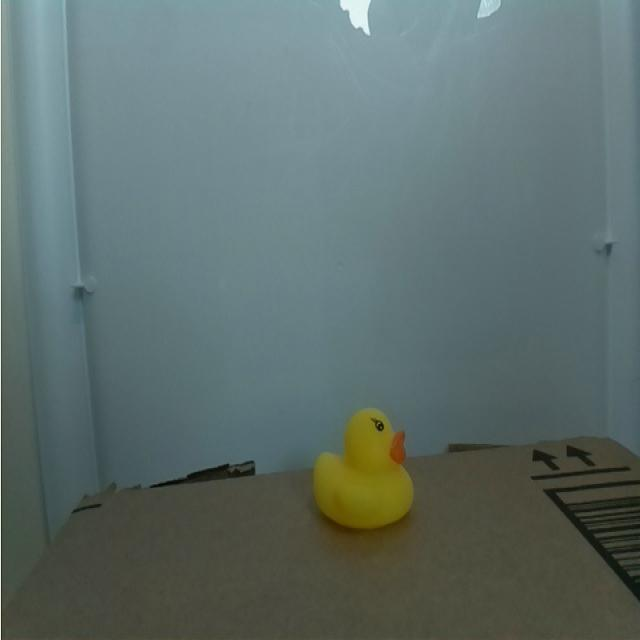duck_regular: (299, 388, 430, 545)
